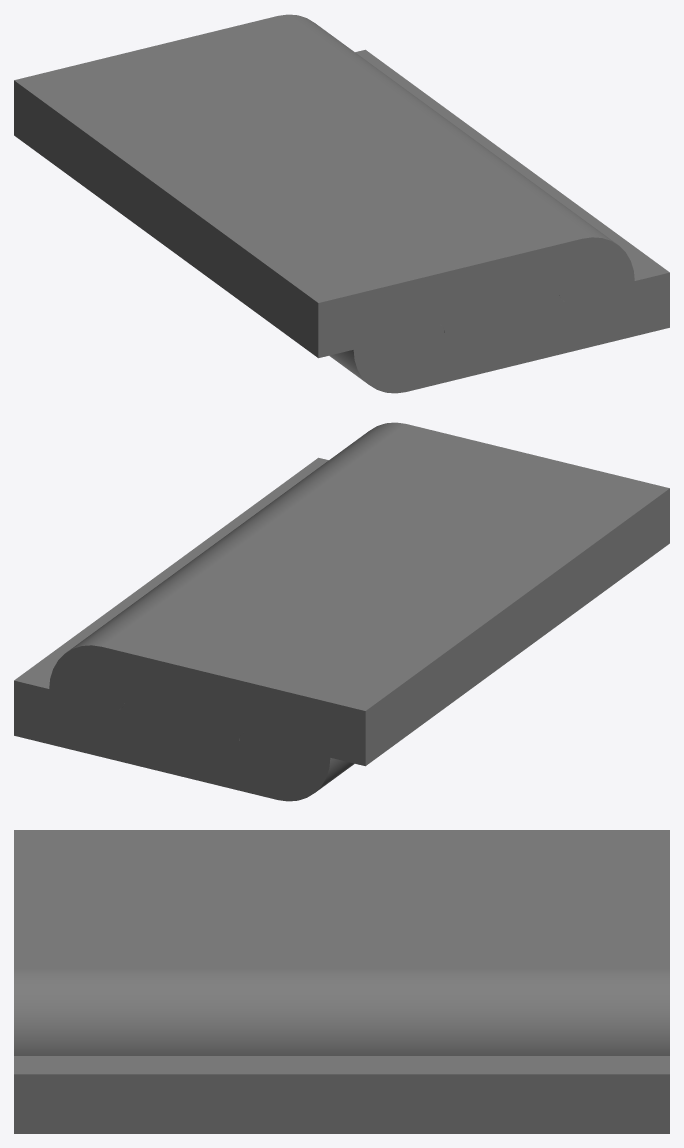
The picture shows the model from 3 angles, top to bottom: view 1: azimuth 30°, elevation 25°; view 2: azimuth 150°, elevation 25°; view 3: azimuth 270°, elevation 25°; orthographic projection. The views are drawn at different scales.
Parts seen in each view (by area): view 1: mesh_id4, mesh_id5; view 2: mesh_id4, mesh_id5; view 3: mesh_id4, mesh_id5.
Part boxes in pixels (left/top/right/bottom): mesh_id4: left=14, top=16, right=669, bottom=391; mesh_id5: left=278, top=14, right=634, bottom=393; mesh_id4: left=14, top=424, right=669, bottom=799; mesh_id5: left=49, top=422, right=405, bottom=801; mesh_id4: left=14, top=830, right=669, bottom=1133; mesh_id5: left=14, top=968, right=669, bottom=1055.
Bounding box in the file's own units: 0.512 × 0.1536 × 0.768.
2 materials, 2 textured.
